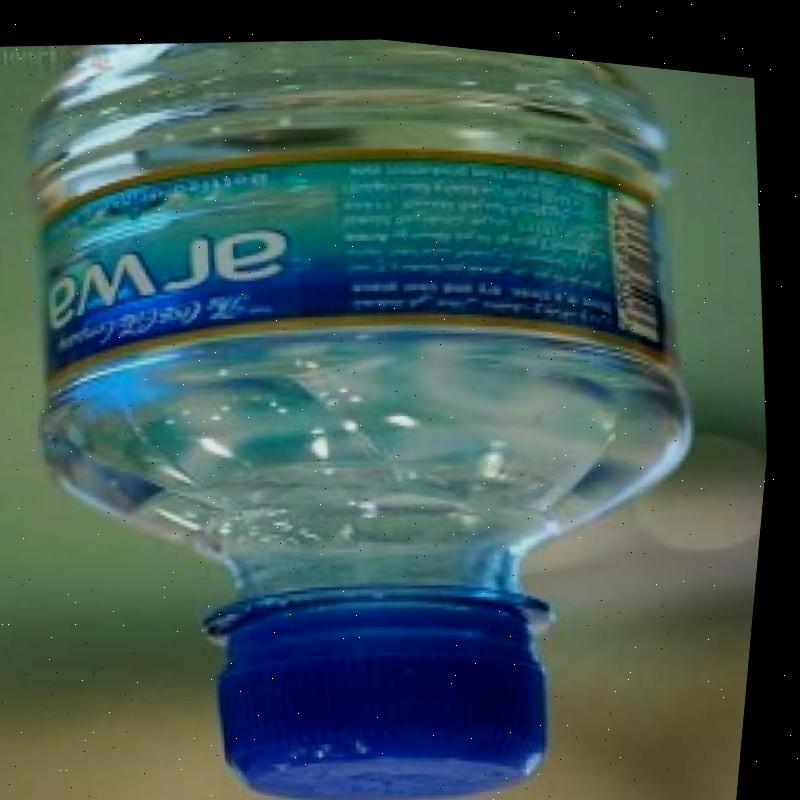botella: (0, 3, 775, 800)
